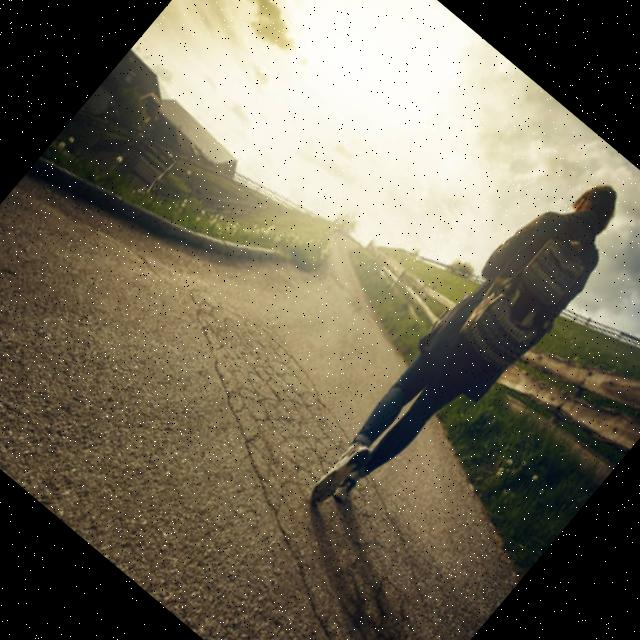Person: (295, 155, 640, 545)
